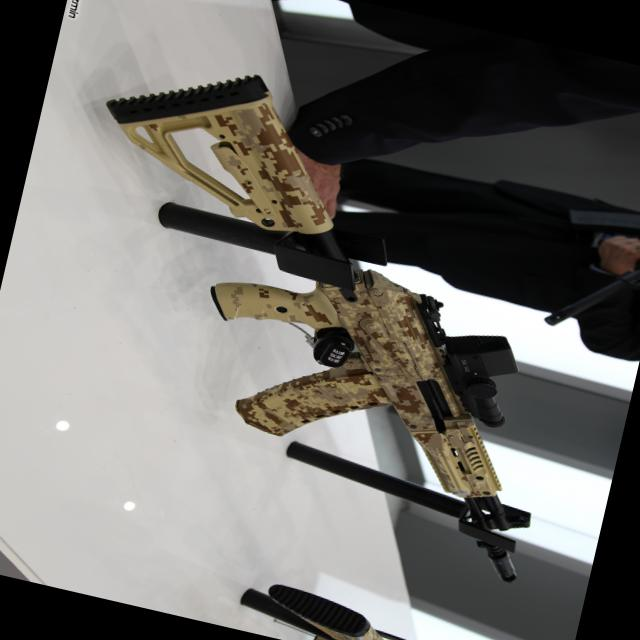long weapon: (53, 59, 574, 570)
